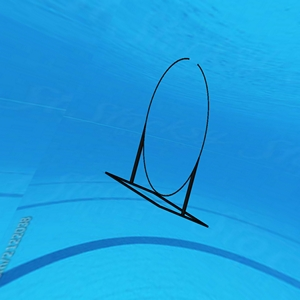circle: (102, 49, 216, 232)
